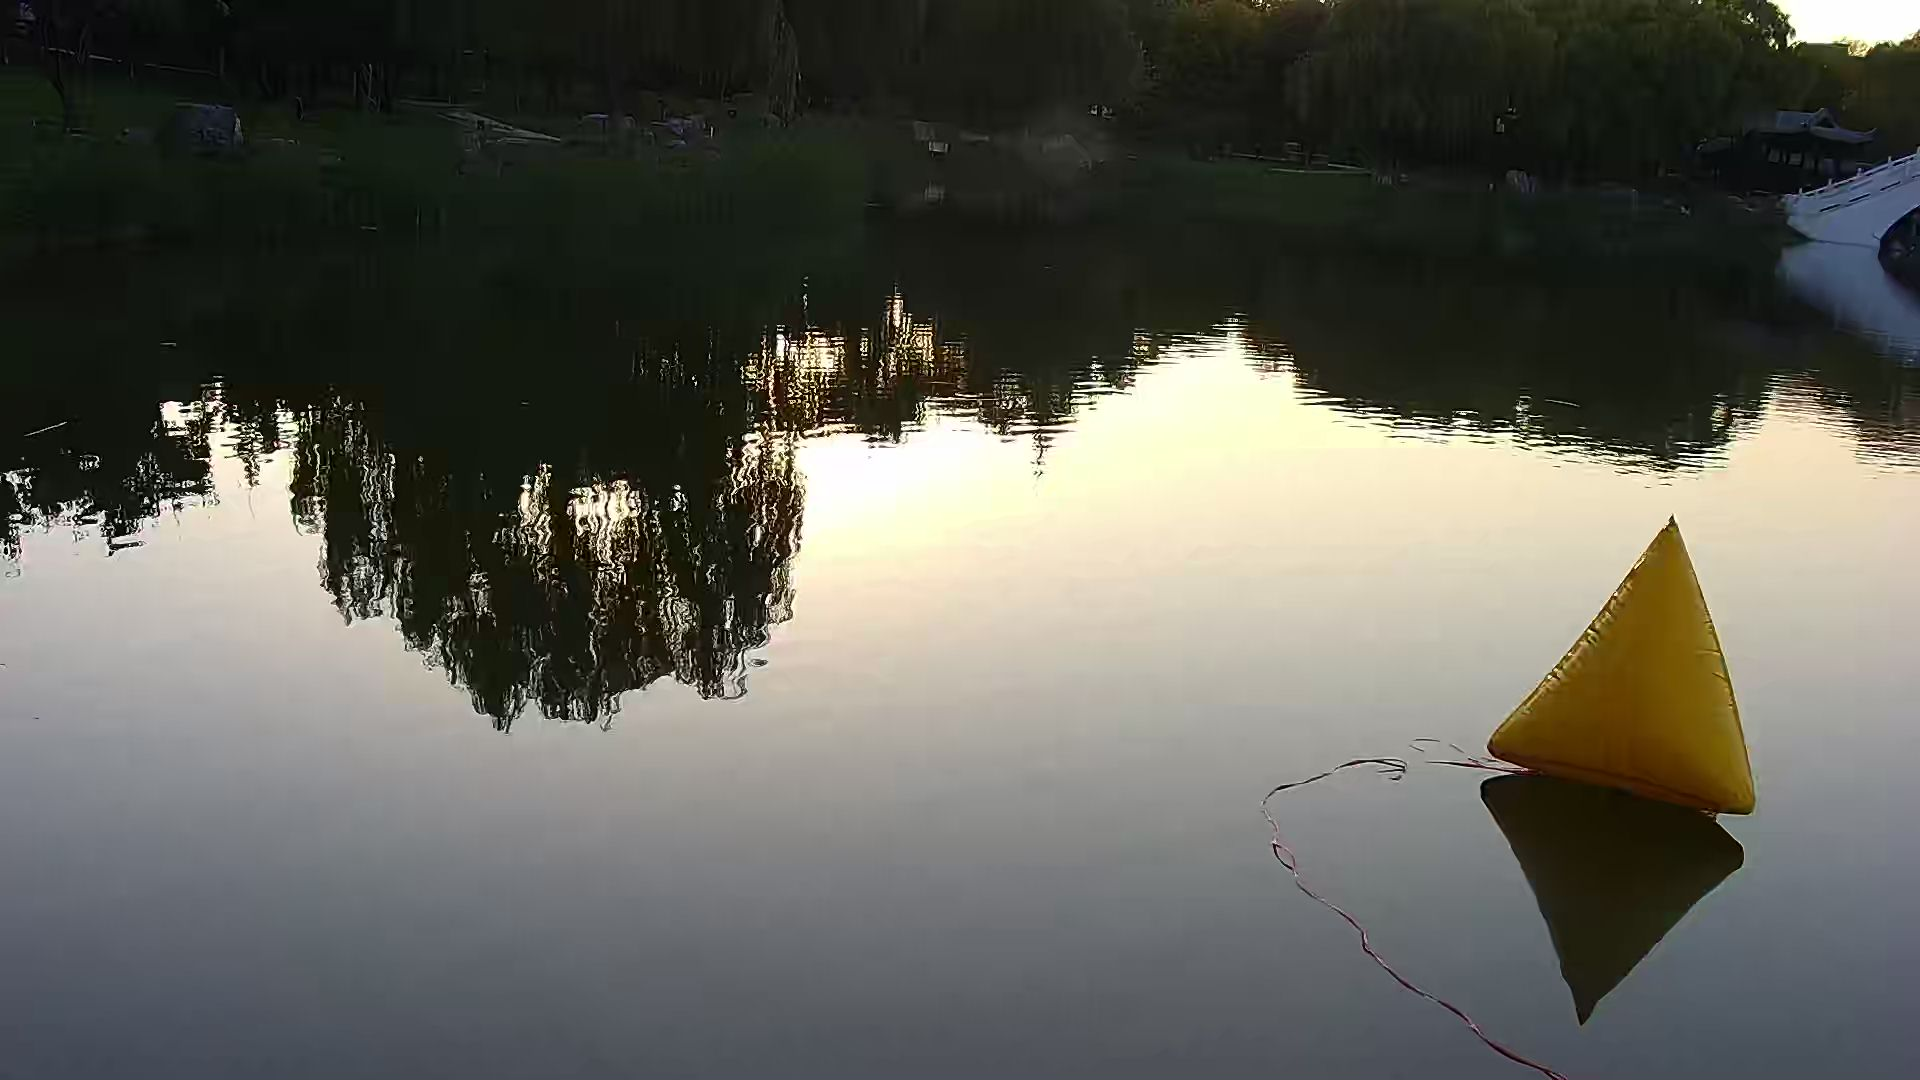bridge: (1788, 135, 1920, 251)
rubbish: (1491, 518, 1764, 822)
